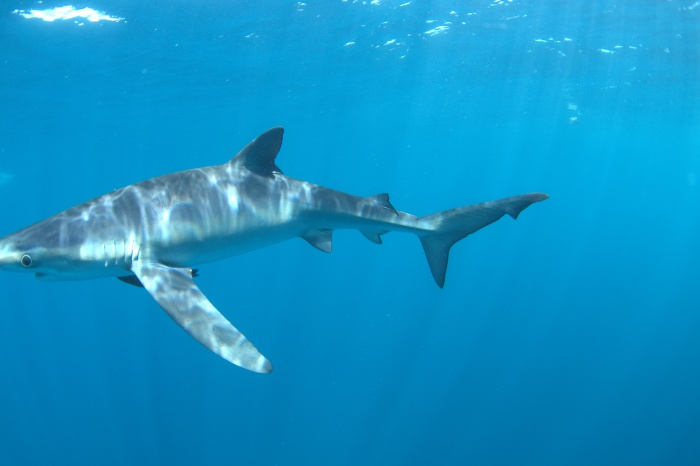Azul: (1, 106, 548, 391)
